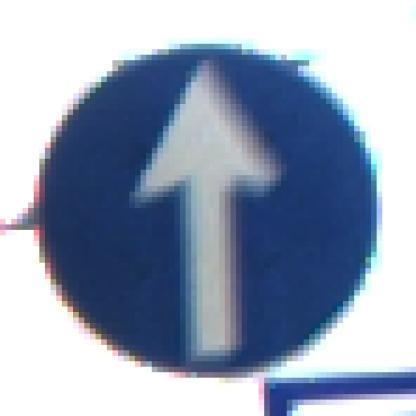straight: (28, 33, 394, 378)
